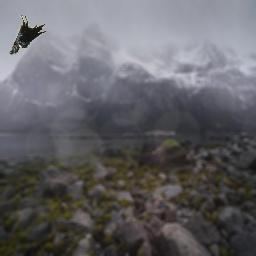Crow: (9, 15, 47, 55)
